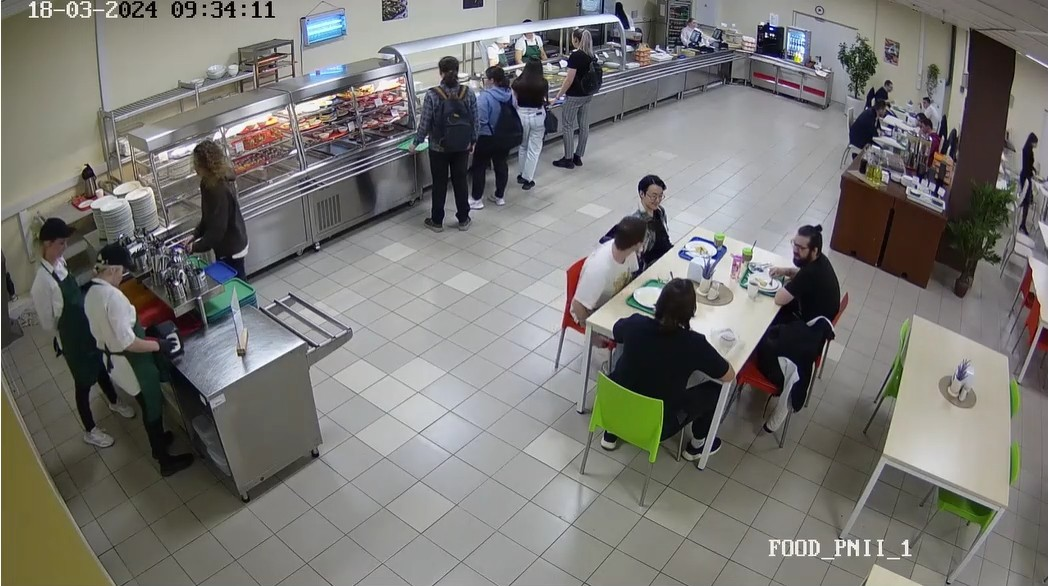Ne_v_Ocheredi: (1015, 117, 1040, 237)
Personal: (71, 233, 233, 514), (29, 213, 121, 451), (608, 5, 650, 42), (514, 14, 551, 54), (482, 25, 509, 68), (679, 12, 710, 42)
Vybiraet: (165, 133, 266, 287), (403, 52, 474, 224), (470, 64, 519, 210), (555, 23, 596, 174), (518, 51, 551, 195)
Za_Stolom: (592, 273, 725, 482), (558, 202, 643, 384), (766, 215, 848, 327), (621, 169, 684, 257), (844, 92, 890, 151), (907, 116, 946, 157), (872, 77, 905, 102), (914, 93, 939, 117)
